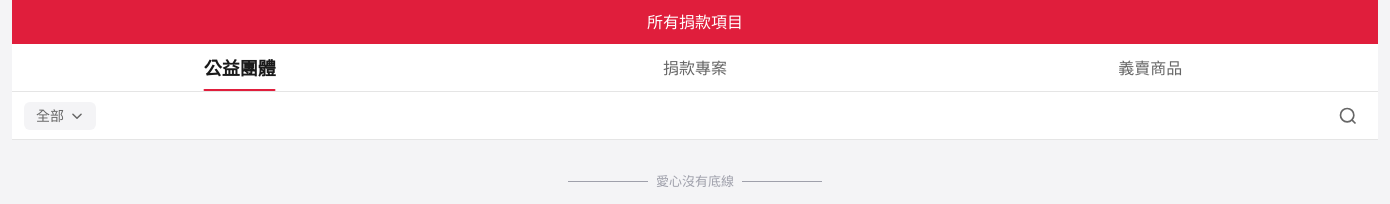
Scenario: CharityListPage › SearchOverlay 關閉後 SubRow 回原位（AC 5）
The width and height of the screenshot is (1390, 204).
Click the button named "搜尋" at (1348,116), box [1330,98,1366,134]
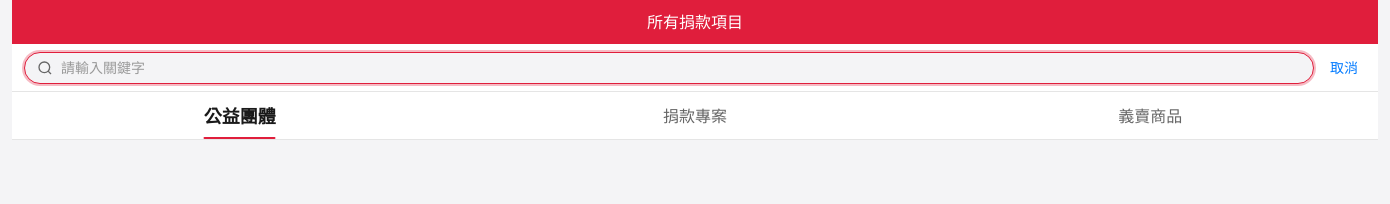
Result: the element showing "取消" is shown at [12,44,1378,92]
Click the button "取消" at (1344,68), box [1322,54,1366,82]
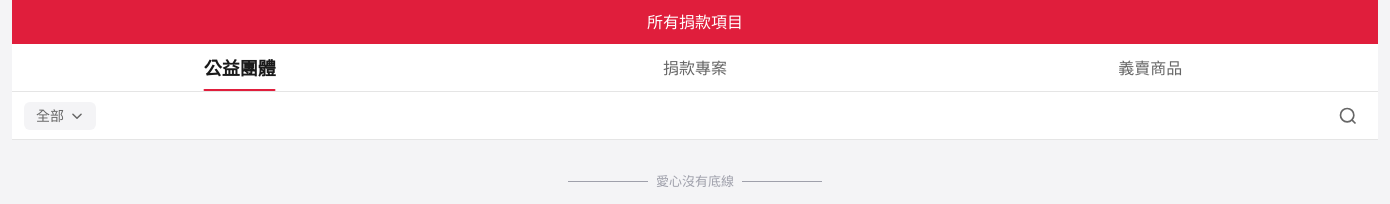
Result: the button named "搜尋" is shown at [1330,98,1366,134]
